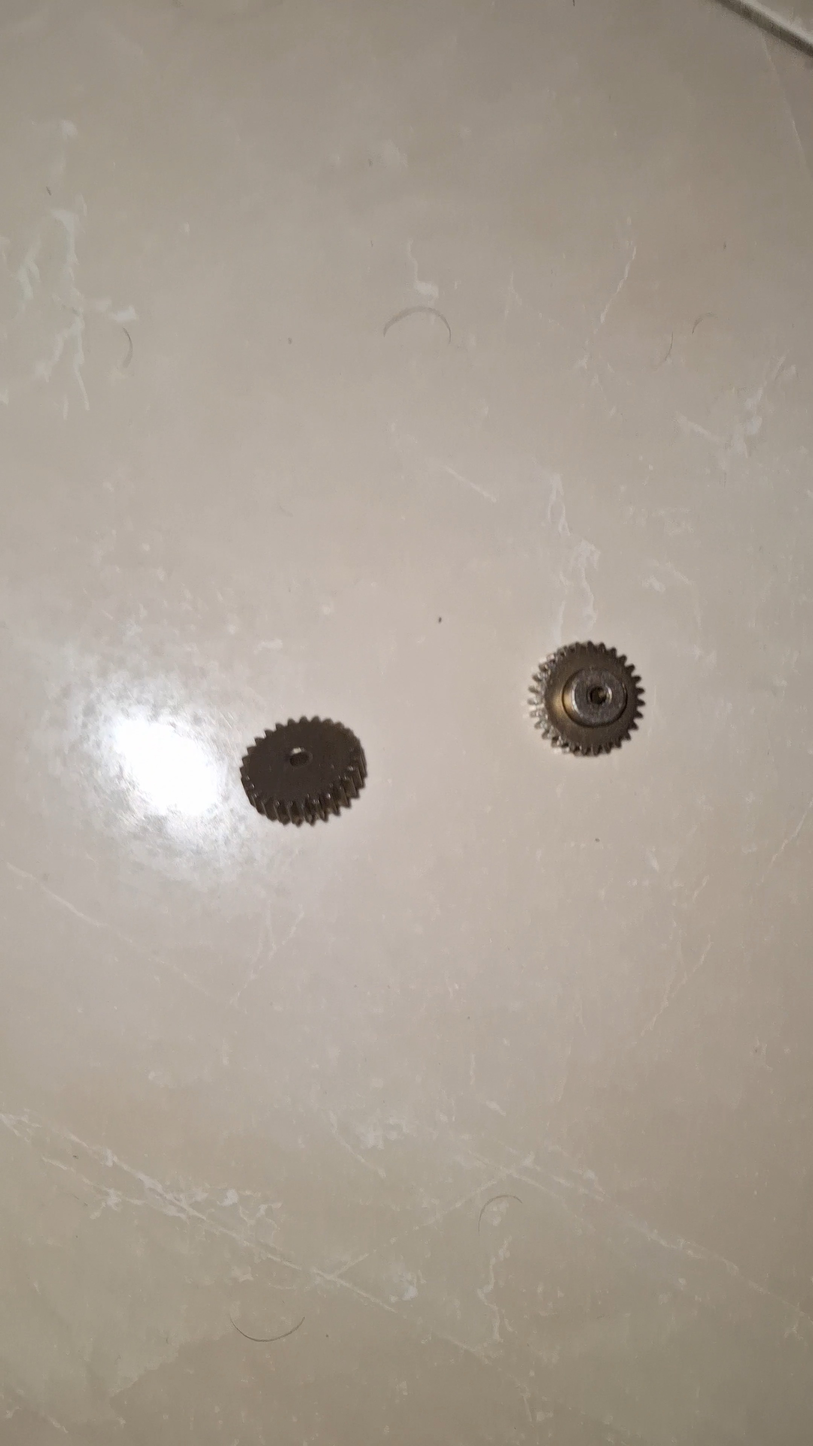spur gear: (241, 717, 366, 825), (530, 642, 643, 754)
